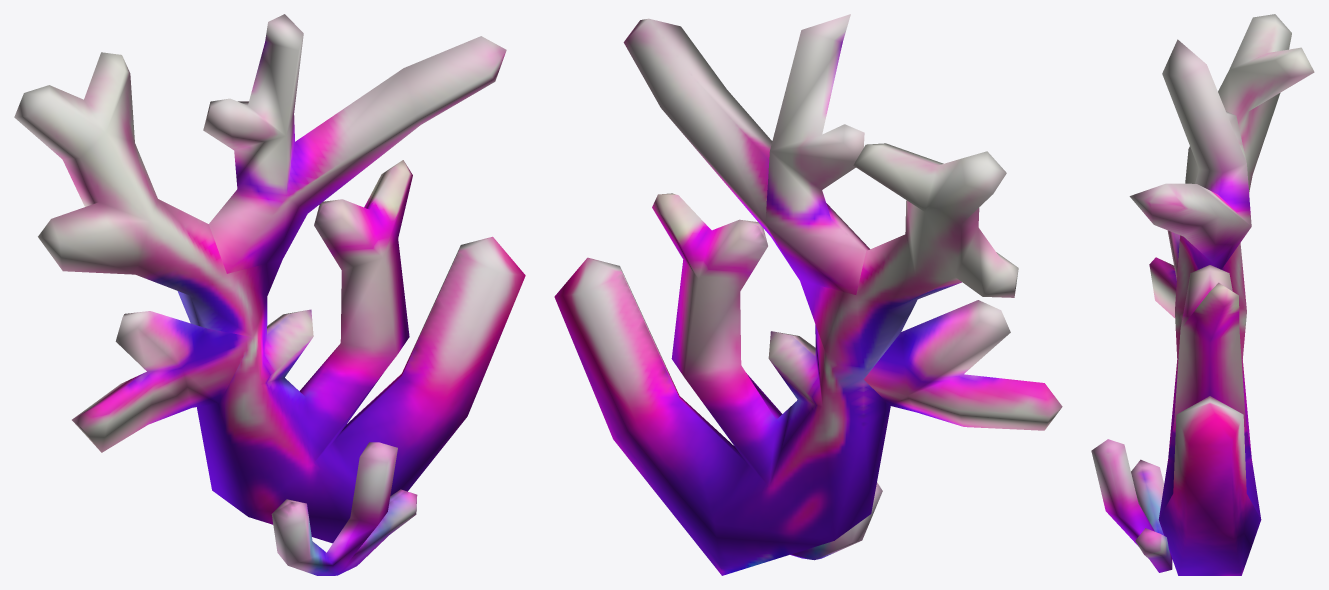
Rendered from Sea_shanhu04.FBX.
The picture shows the model from 3 angles, left to right: view 1: azimuth 30°, elevation 25°; view 2: azimuth 150°, elevation 25°; view 3: azimuth 270°, elevation 25°; orthographic projection. The views are drawn at different scales.
Visible parts, largest first — view 1: objLine01; view 2: objLine01; view 3: objLine01.
Boxes of the visible parts, left/top/right/bottom form: objLine01: left=14, top=14, right=525, bottom=575; objLine01: left=554, top=14, right=1062, bottom=575; objLine01: left=1091, top=14, right=1314, bottom=575.
Size of the model in its own units: 29.3 by 34 by 13.66.
